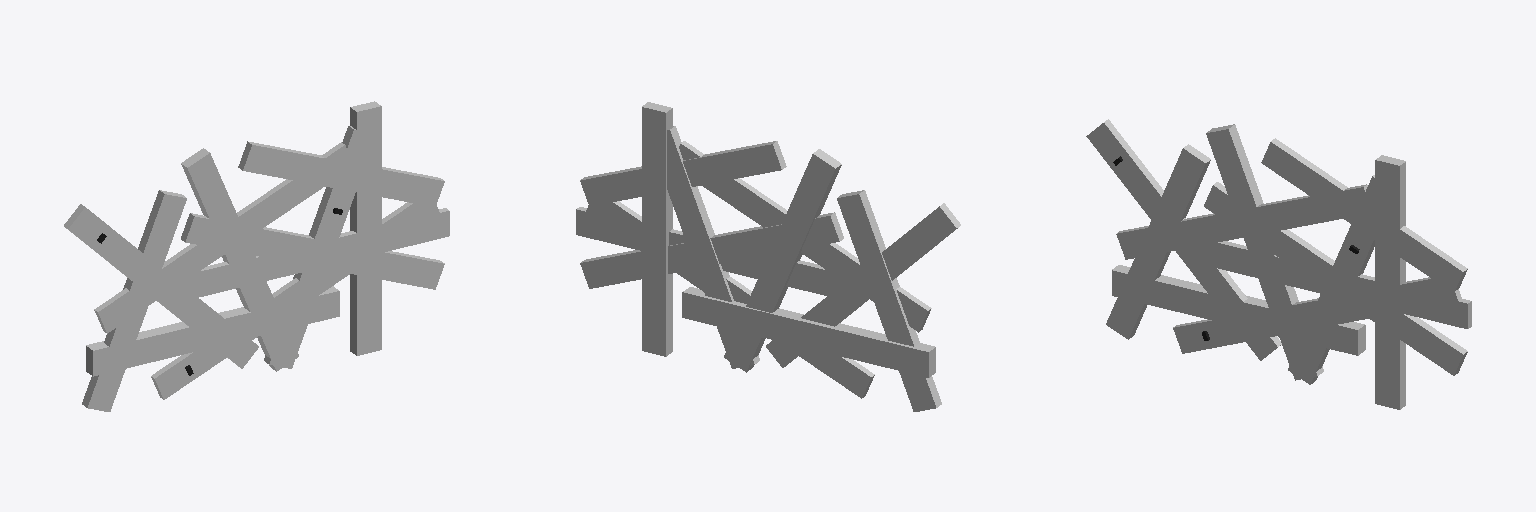
The picture shows the model from 3 angles: view 1: azimuth 30°, elevation 25°; view 2: azimuth 150°, elevation 25°; view 3: azimuth 330°, elevation 25°; orthographic projection.
Visible parts, largest first — view 1: cube.151, cube.152, cube.161, cube.155, cube.154, cube.160, cube.159, cube.158, cube.153, cube.156, cube.157; view 2: cube.153, cube.160, cube.156, cube.161, cube.154, cube.155, cube.159, cube.157, cube.152, cube.158, cube.151; view 3: cube.151, cube.152, cube.154, cube.156, cube.159, cube.153, cube.155, cube.160, cube.161, cube.158, cube.157.
Boxes of the visible parts, box(x1,y1,x2,y2) form: cube.151: box(151, 192, 439, 399); cube.152: box(94, 142, 350, 333); cube.161: box(82, 190, 186, 411); cube.155: box(64, 204, 258, 368); cube.154: box(181, 213, 444, 289); cube.160: box(350, 101, 381, 355); cube.159: box(238, 141, 444, 206); cube.158: box(179, 208, 449, 301); cube.153: box(86, 286, 339, 376); cube.156: box(181, 148, 298, 371); cube.157: box(264, 126, 376, 368); cube.153: box(682, 287, 935, 377); cube.160: box(642, 102, 672, 356); cube.156: box(724, 149, 841, 372); cube.161: box(837, 190, 941, 411); cube.154: box(580, 212, 843, 288); cube.155: box(766, 203, 960, 367); cube.159: box(580, 141, 786, 206); cube.157: box(667, 126, 759, 368); cube.152: box(679, 141, 931, 332); cube.158: box(576, 207, 844, 295); cube.151: box(586, 201, 874, 398); cube.151: box(1173, 276, 1461, 353); cube.152: box(1116, 184, 1371, 259); cube.154: box(1204, 182, 1467, 375); cube.156: box(1206, 124, 1323, 380); cube.159: box(1261, 138, 1467, 292); cube.153: box(1112, 265, 1365, 355); cube.155: box(1086, 119, 1281, 360); cube.160: box(1375, 155, 1405, 409); cube.161: box(1106, 144, 1210, 339); cube.158: box(1197, 239, 1471, 328); cube.157: box(1288, 175, 1394, 384).
Size of the model in its own units: 1.45 by 0.8875 by 0.0625.
Materials: 2 (1 with a texture image).